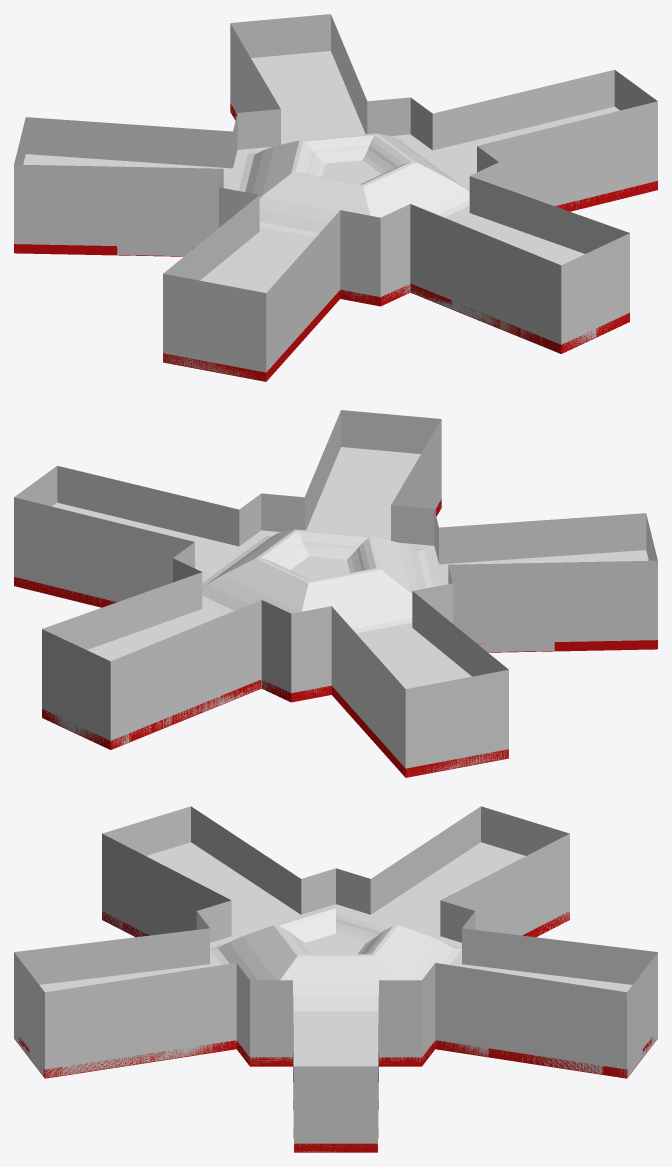
The model's file is room try 2.fbx.
3 views of the same model, one above another, from view 1: azimuth 30°, elevation 25°; view 2: azimuth 150°, elevation 25°; view 3: azimuth 270°, elevation 25° (orthographic). The views are drawn at different scales.
Parts seen in each view (by area): view 1: Walls, Roof, Floor; view 2: Walls, Roof, Floor; view 3: Walls, Roof, Floor.
Part boxes in pixels (x1,y1,x2,y2): Walls: (14,14,657,379); Roof: (23,51,619,292); Floor: (14,103,657,381); Walls: (14,410,657,776); Roof: (52,447,648,688); Floor: (14,499,657,777); Walls: (14,806,657,1152); Roof: (39,842,632,1066); Floor: (14,911,657,1152).
Bounding box in the file's own units: 597 × 88.33 × 570.
